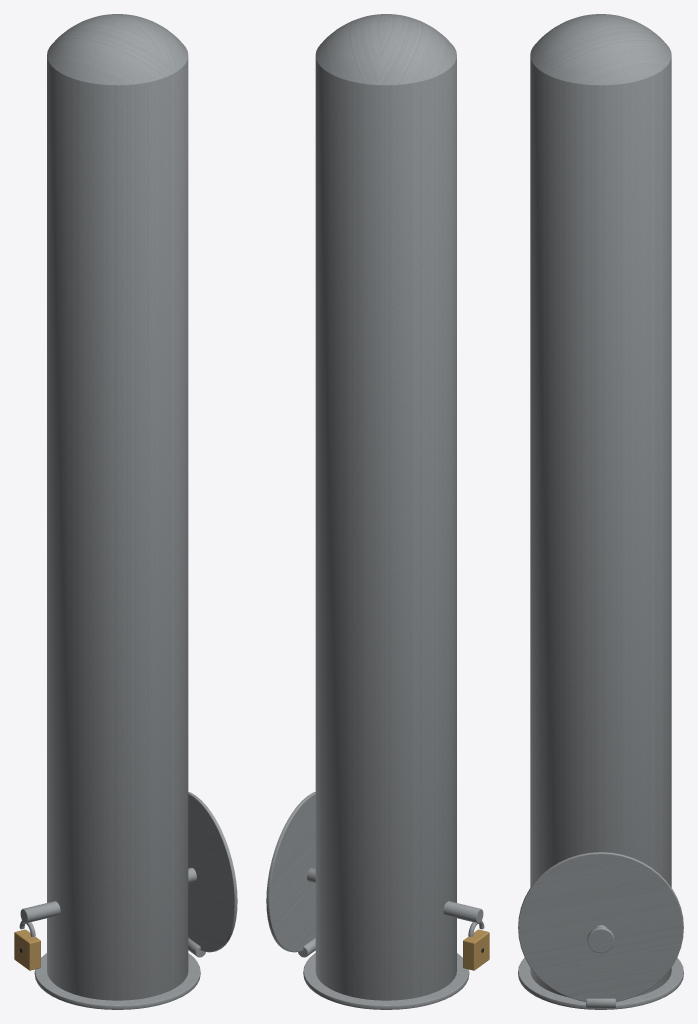
The model's file is sunpole_pa114sk_installed.glb.
3 views of the same model, side by side, from view 1: azimuth 30°, elevation 25°; view 2: azimuth 150°, elevation 25°; view 3: azimuth 270°, elevation 25° (orthographic).
Parts seen in each view (by area): view 1: Measured_pipe_D114p3_H820p42, Measured_R70_Dome_Apex850, Raised_open_socket_lid_D134, Socket_floor_ring_D134, Padlock_body_25mm, Measured_lock_pin_D12_L175; view 2: Measured_pipe_D114p3_H820p42, Measured_R70_Dome_Apex850, Raised_open_socket_lid_D134, Socket_floor_ring_D134, Padlock_body_25mm, Measured_lock_pin_D12_L175; view 3: Measured_pipe_D114p3_H820p42, Raised_open_socket_lid_D134, Measured_R70_Dome_Apex850, Socket_floor_ring_D134, Pin_head.
Boxes of the visible parts, <box> form: Measured_pipe_D114p3_H820p42: <box>47,57,188,1000</box>; Measured_R70_Dome_Apex850: <box>47,14,188,84</box>; Raised_open_socket_lid_D134: <box>188,792,237,952</box>; Socket_floor_ring_D134: <box>34,953,200,1009</box>; Padlock_body_25mm: <box>14,929,40,970</box>; Measured_lock_pin_D12_L175: <box>20,867,196,923</box>; Measured_pipe_D114p3_H820p42: <box>315,57,456,1000</box>; Measured_R70_Dome_Apex850: <box>315,14,456,84</box>; Raised_open_socket_lid_D134: <box>266,792,315,952</box>; Socket_floor_ring_D134: <box>303,953,469,1009</box>; Padlock_body_25mm: <box>463,929,489,970</box>; Measured_lock_pin_D12_L175: <box>307,867,483,923</box>; Measured_pipe_D114p3_H820p42: <box>530,57,671,996</box>; Raised_open_socket_lid_D134: <box>518,852,683,1001</box>; Measured_R70_Dome_Apex850: <box>530,14,671,84</box>; Socket_floor_ring_D134: <box>518,957,683,1009</box>; Pin_head: <box>587,927,614,953</box>.
Size of the model in its own units: 0.1818 by 0.85 by 0.134.
3 materials, 1 textured.
